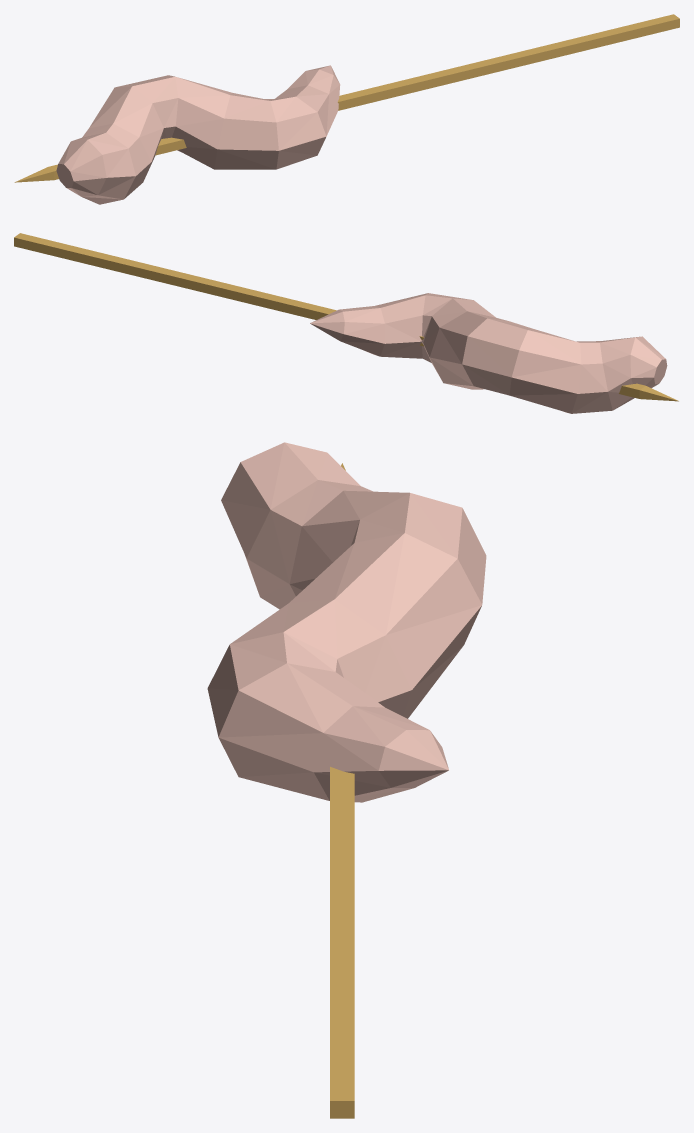
Rendered from SM_Cook_SkewerChickenWing_Raw_01.fbx.
3 renders of one model, top to bottom at view 1: azimuth 30°, elevation 25°; view 2: azimuth 150°, elevation 25°; view 3: azimuth 270°, elevation 25°, orthographic. The views are drawn at different scales.
Visible parts, largest first — view 1: SM_Cook_SkewerChickenWing_Raw_01; view 2: SM_Cook_SkewerChickenWing_Raw_01; view 3: SM_Cook_SkewerChickenWing_Raw_01.
Boxes of the visible parts, left/top/right/bottom form: SM_Cook_SkewerChickenWing_Raw_01: left=14, top=14, right=679, bottom=204; SM_Cook_SkewerChickenWing_Raw_01: left=14, top=233, right=678, bottom=413; SM_Cook_SkewerChickenWing_Raw_01: left=207, top=442, right=486, bottom=1118.
Bounding box in the file's own units: 0.25 × 0.0316 × 0.0456.
Materials: 1 (1 with a texture image).
